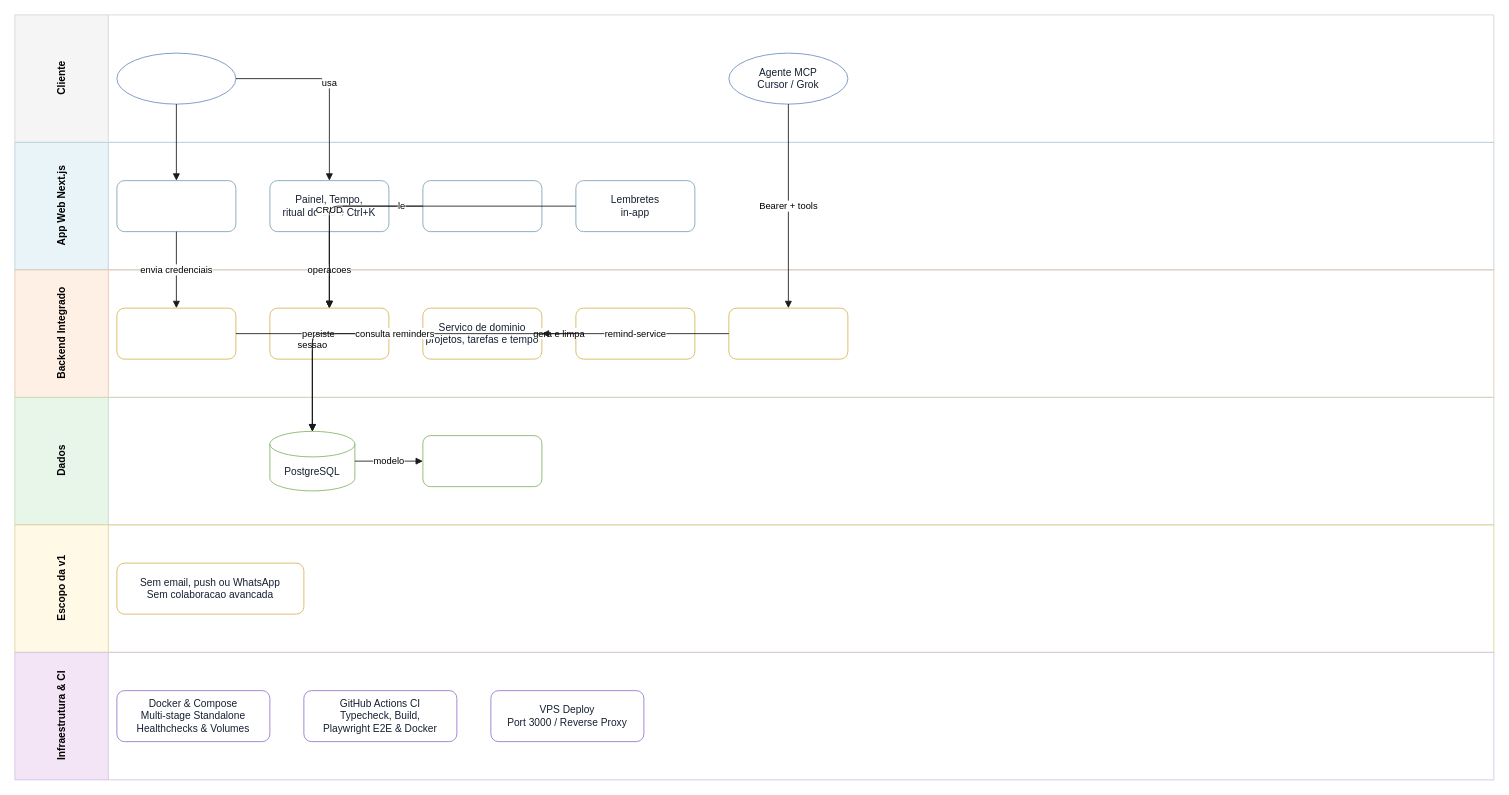
Image size: 1509x795. Some labels were removed from this diagram. Here are the shapes that lost their labels. From the top down, the centre of each, then its label:
At point 176,78: "Usuario ate 10 pessoas".
At point 176,206: "Tela de login".
At point 482,206: "Detalhe do projeto e edicao de tarefa".
At point 176,333: "Autenticacao por sessao".
At point 329,333: "Acoes e rotas do servidor".
At point 635,333: "Sincronizacao de lembretes".
At point 788,333: "MCP /api/mcp Streamable HTTP".
At point 482,461: "users, sessions, projects tasks, reminders work_sessions, daily_notes".
